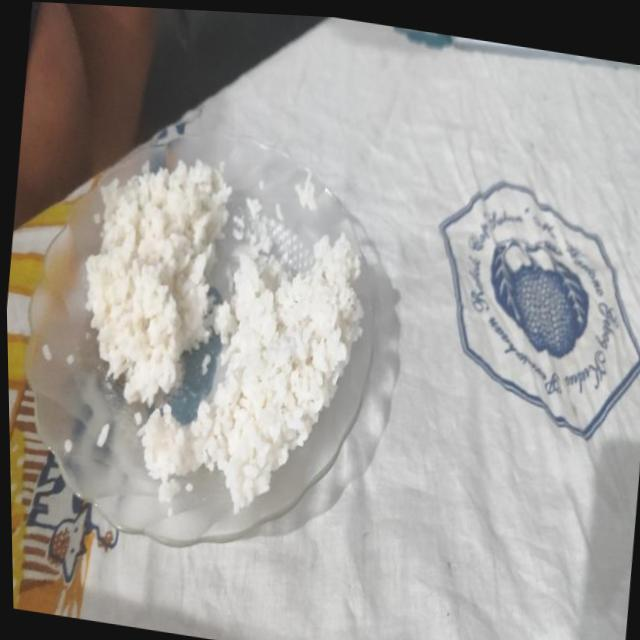nasi_putih: (138, 200, 362, 512), (86, 160, 231, 406)
